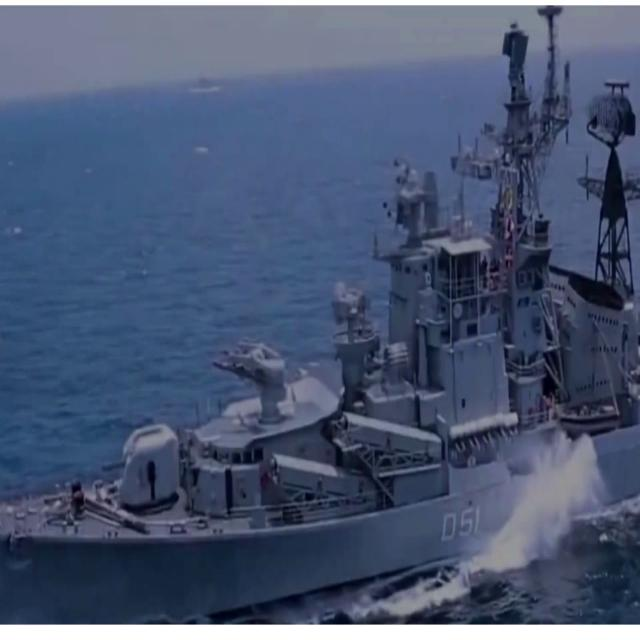OCR: (437, 503, 483, 553)
